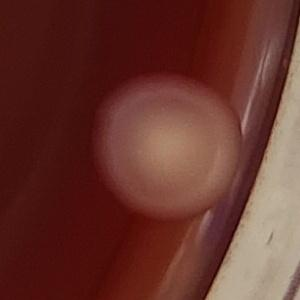colony: (91, 68, 243, 232)
